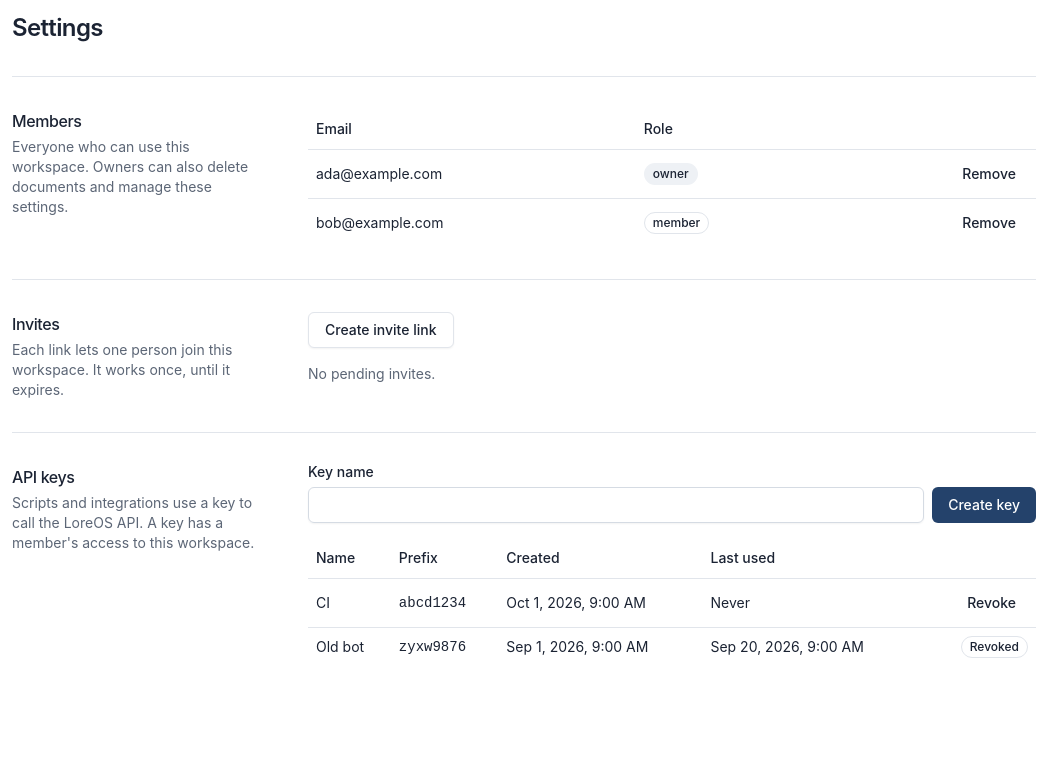
Test: a 409 on removing the last owner shows its detail and keeps the member
Click the button with aria-label "Remove ada@example.com" at (989, 174), box 950,158 -> 1028,190
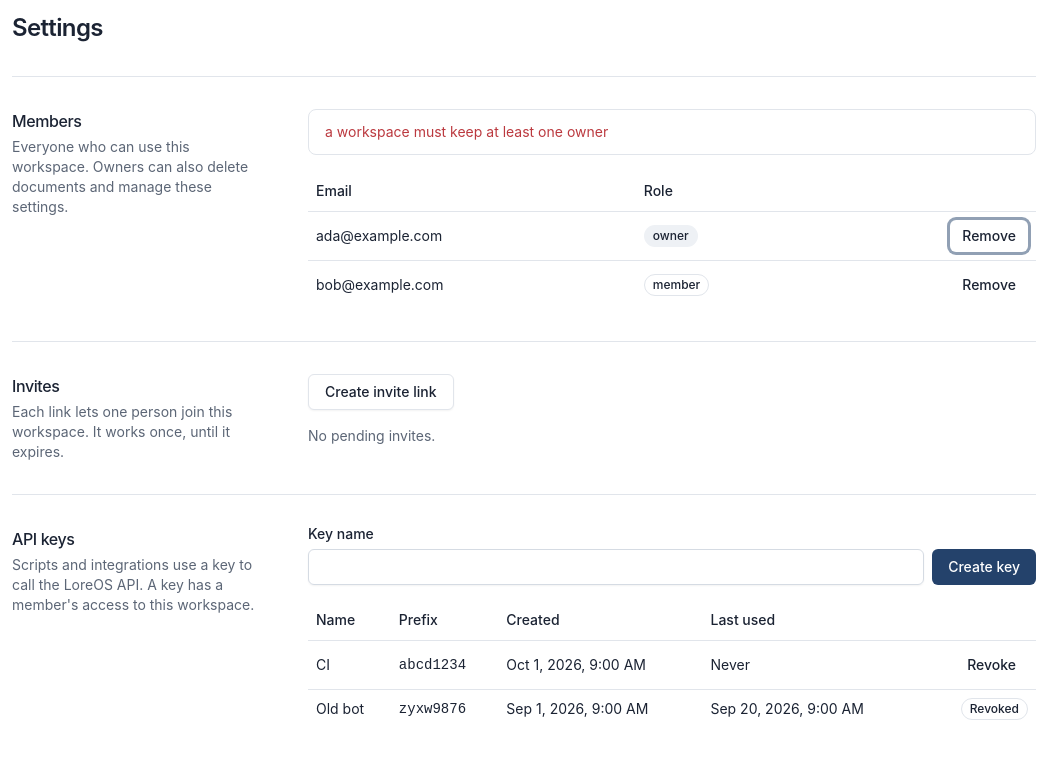
Expected: the text "ada@example.com" is shown, 308,211 -> 636,260
Expected: the message reads "a workspace must keep at least one owner", 325,123 -> 608,140
